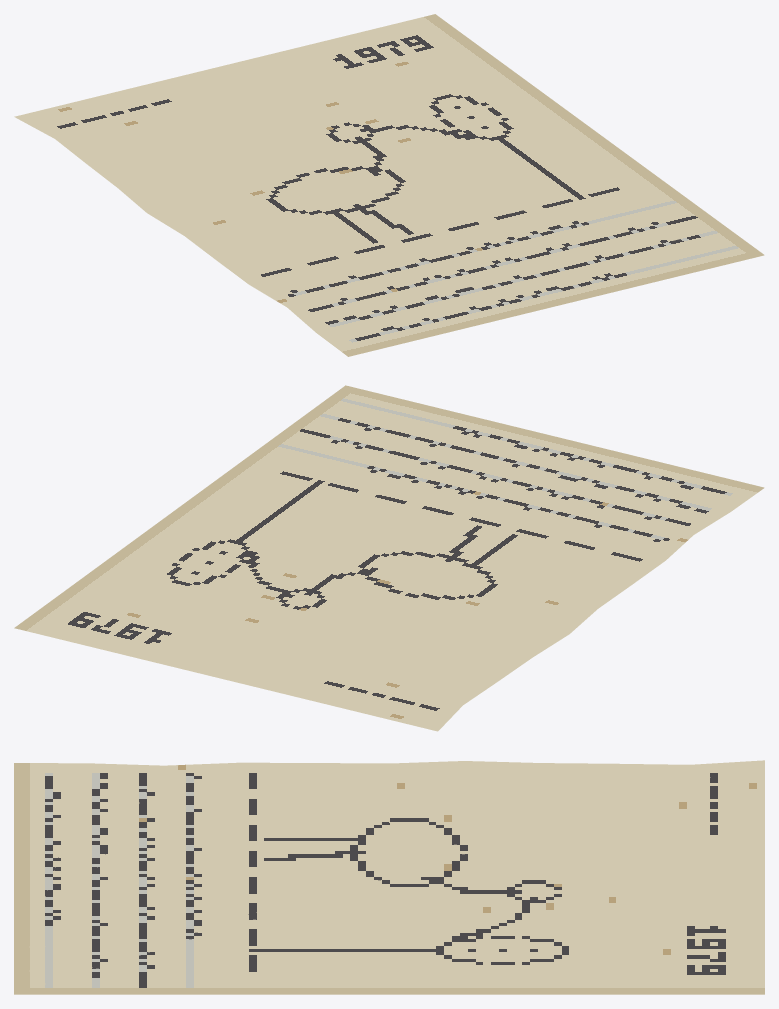
Rendered from m_page_ibis.glb.
The picture shows the model from 3 angles, top to bottom: view 1: azimuth 30°, elevation 25°; view 2: azimuth 150°, elevation 25°; view 3: azimuth 270°, elevation 25°; orthographic projection. The views are drawn at different scales.
Visible parts, largest first — view 1: Page_ibis; view 2: Page_ibis; view 3: Page_ibis.
Part boxes in pixels (x1=…): Page_ibis: x1=14, y1=14, x2=764, y2=356; Page_ibis: x1=14, y1=385, x2=764, y2=731; Page_ibis: x1=14, y1=760, x2=764, y2=994.
Size of the model in its own units: 0.1476 by 0 by 0.2.
Materials: 1 (1 with a texture image).
